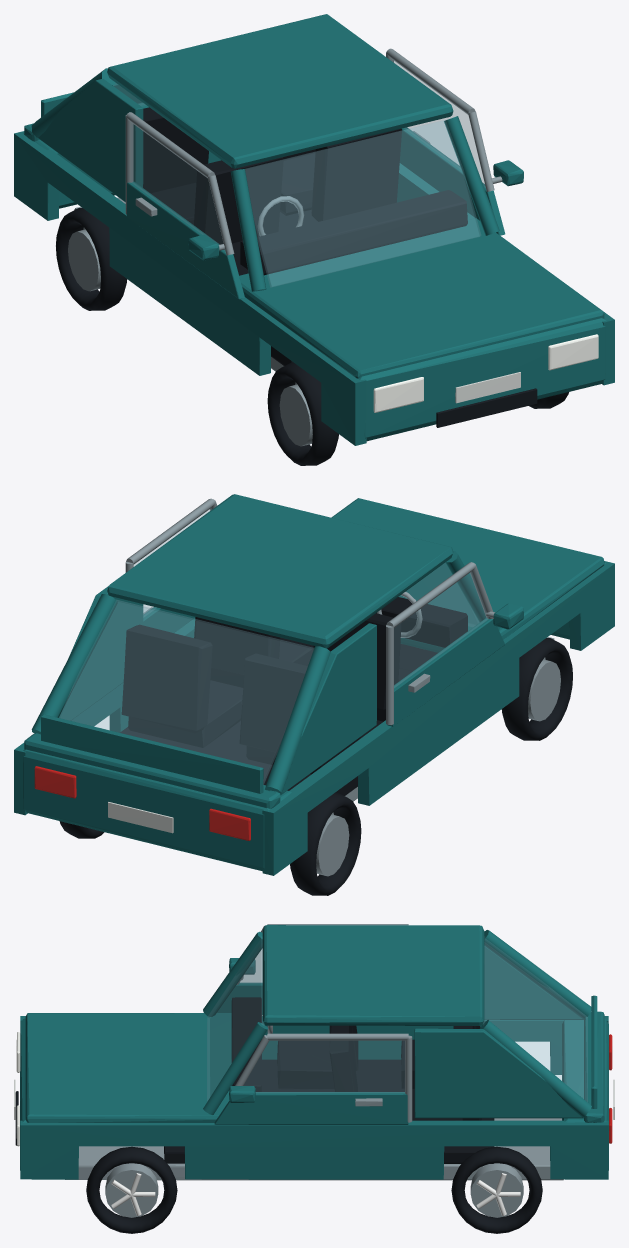
File: car_hatchback_hd.glb
3 views of the same model, one above another, from view 1: azimuth 30°, elevation 25°; view 2: azimuth 150°, elevation 25°; view 3: azimuth 270°, elevation 25° (orthographic). The views are drawn at different scales.
Parts seen in each view (by area): view 1: body, wheel_FL, wheel_RL; view 2: body, wheel_RL, wheel_FL; view 3: body, wheel_FR, wheel_RR.
Part boxes in pixels (<box>): body: <box>14,14,614,445</box>; wheel_FL: <box>267,363,338,465</box>; wheel_RL: <box>56,208,127,310</box>; body: <box>14,494,614,875</box>; wheel_RL: <box>290,793,361,895</box>; wheel_FL: <box>501,638,572,740</box>; body: <box>14,924,614,1180</box>; wheel_FR: <box>86,1146,177,1233</box>; wheel_RR: <box>451,1146,542,1233</box>.
Size of the model in its own units: 2.14 by 1.56 by 4.
